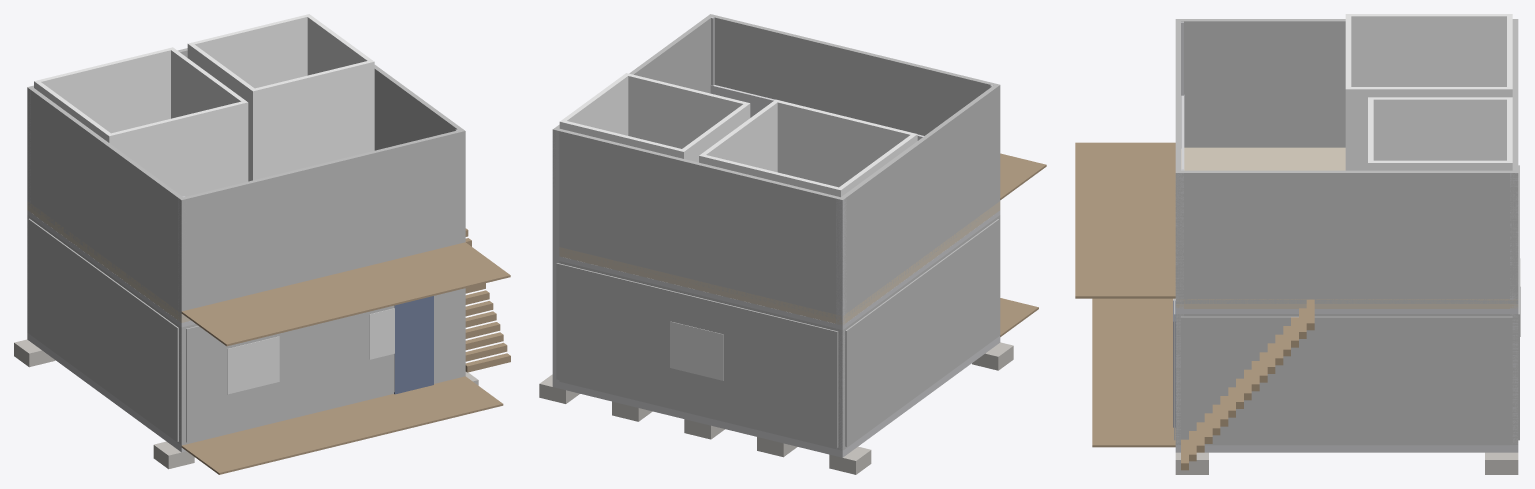
The model's file is Duplex-20-Base-LightGrey-LOD2.glb.
The picture shows the model from 3 angles, left to right: view 1: azimuth 30°, elevation 25°; view 2: azimuth 150°, elevation 25°; view 3: azimuth 270°, elevation 25°; orthographic projection. The views are drawn at different scales.
Parts seen in each view (by area): view 1: ExteriorShellUpper, ExteriorPanelsStandard, StudyUpper, BedroomUpper, BalconyUpper, BalconyGround, WindowsStandard, EntryDoor, StaircaseExternal, ExteriorShell, FoundationBlocks, FloorUpper (+2 smaller); view 2: ExteriorShellUpper, ExteriorPanelsStandard, BedroomUpper, StudyUpper, FloorUpper, VerticalStructure, FoundationBlocks, BaseFrame, ExteriorShell, WindowsStandard, TopFrame, BalconyUpper (+2 smaller); view 3: ExteriorShellUpper, ExteriorPanelsStandard, BalconyUpper, BedroomUpper, BalconyGround, StudyUpper, FloorUpper, StaircaseExternal, ExteriorShell, VerticalStructure, BaseFrame, TopFrame (+1 smaller).
Part boxes in pixels (x1=…): ExteriorShellUpper: x1=27, y1=48, x2=465, y2=317; ExteriorPanelsStandard: x1=28, y1=218, x2=461, y2=442; StudyUpper: x1=187, y1=14, x2=374, y2=181; BedroomUpper: x1=34, y1=47, x2=248, y2=196; BalconyUpper: x1=181, y1=242, x2=510, y2=346; BalconyGround: x1=181, y1=376, x2=503, y2=474; WindowsStandard: x1=227, y1=308, x2=394, y2=394; EntryDoor: x1=394, y1=296, x2=433, y2=394; StaircaseExternal: x1=465, y1=228, x2=510, y2=372; ExteriorShell: x1=27, y1=215, x2=465, y2=445; FoundationBlocks: x1=14, y1=339, x2=478, y2=469; FloorUpper: x1=27, y1=201, x2=190, y2=322; ExteriorShellUpper: x1=552, y1=14, x2=1000, y2=319; ExteriorPanelsStandard: x1=556, y1=219, x2=999, y2=447; BedroomUpper: x1=699, y1=99, x2=917, y2=197; StudyUpper: x1=559, y1=73, x2=750, y2=162; FloorUpper: x1=559, y1=201, x2=1000, y2=325; VerticalStructure: x1=552, y1=17, x2=998, y2=450; FoundationBlocks: x1=539, y1=342, x2=1013, y2=474; BaseFrame: x1=552, y1=336, x2=1000, y2=457; ExteriorShell: x1=559, y1=215, x2=1000, y2=450; WindowsStandard: x1=670, y1=321, x2=723, y2=380; TopFrame: x1=559, y1=210, x2=1000, y2=329; BalconyUpper: x1=1000, y1=153, x2=1046, y2=199; ExteriorShellUpper: x1=1175, y1=19, x2=1518, y2=303; ExteriorPanelsStandard: x1=1174, y1=165, x2=1519, y2=443; BalconyUpper: x1=1075, y1=142, x2=1175, y2=298; BedroomUpper: x1=1345, y1=14, x2=1512, y2=170; BalconyGround: x1=1092, y1=298, x2=1175, y2=447; StudyUpper: x1=1368, y1=97, x2=1512, y2=170; FloorUpper: x1=1175, y1=147, x2=1518, y2=308; StaircaseExternal: x1=1181, y1=299, x2=1314, y2=470; ExteriorShell: x1=1175, y1=314, x2=1518, y2=445; VerticalStructure: x1=1175, y1=21, x2=1518, y2=445; BaseFrame: x1=1175, y1=445, x2=1518, y2=452; TopFrame: x1=1175, y1=309, x2=1518, y2=313.
Bounding box in the file's own units: 7.94 × 6 × 8.
